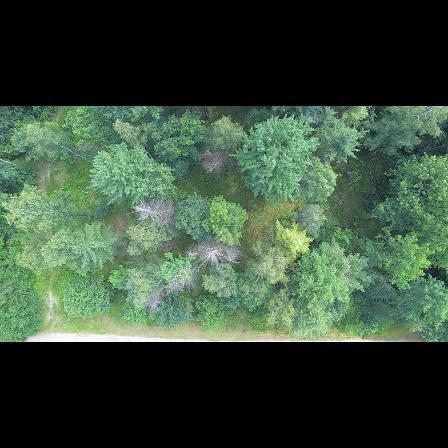Dead: (132, 200, 178, 233), (196, 146, 228, 177), (163, 272, 197, 297), (189, 244, 223, 263), (223, 248, 238, 264)
